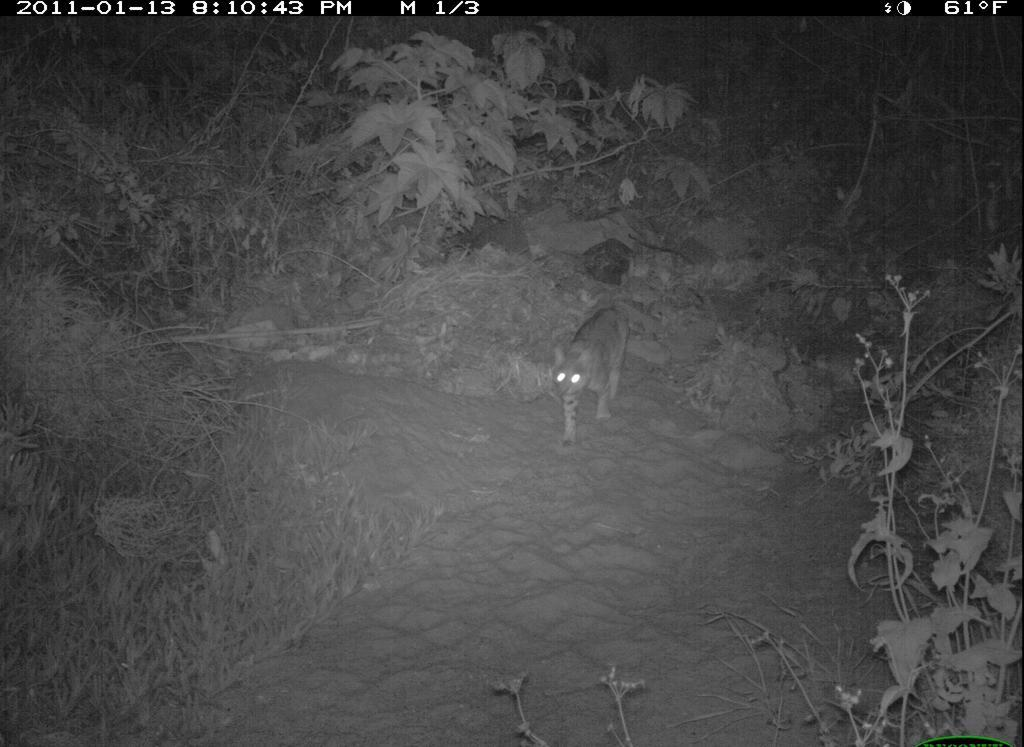bobcat: (548, 304, 641, 449)
